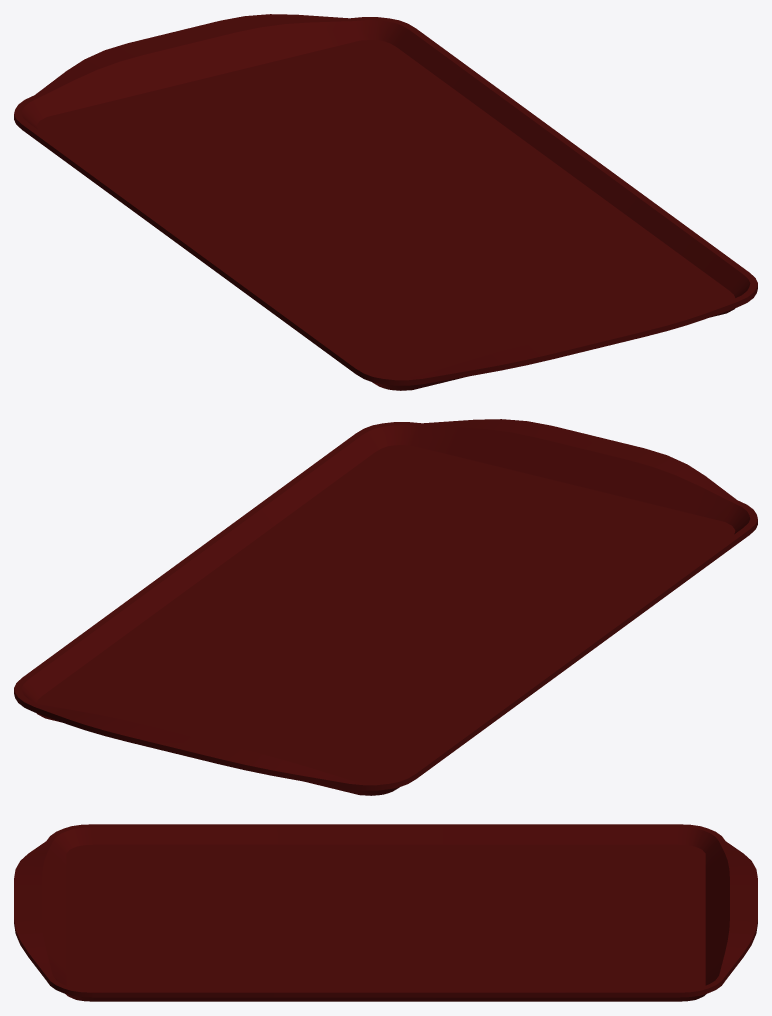
File: SM_MTray.fbx
3 renders of one model, top to bottom at view 1: azimuth 30°, elevation 25°; view 2: azimuth 150°, elevation 25°; view 3: azimuth 270°, elevation 25°, orthographic. The views are drawn at different scales.
Parts seen in each view (by area): view 1: SM_MTray_LOD0; view 2: SM_MTray_LOD0; view 3: SM_MTray_LOD0.
Part boxes in pixels (box(x1,y1,x2,y2)): SM_MTray_LOD0: box(14, 14, 757, 390); SM_MTray_LOD0: box(14, 419, 757, 795); SM_MTray_LOD0: box(14, 824, 757, 1001).
Size of the model in its own units: 30 by 56 by 2.19.
1 material, 1 textured.
